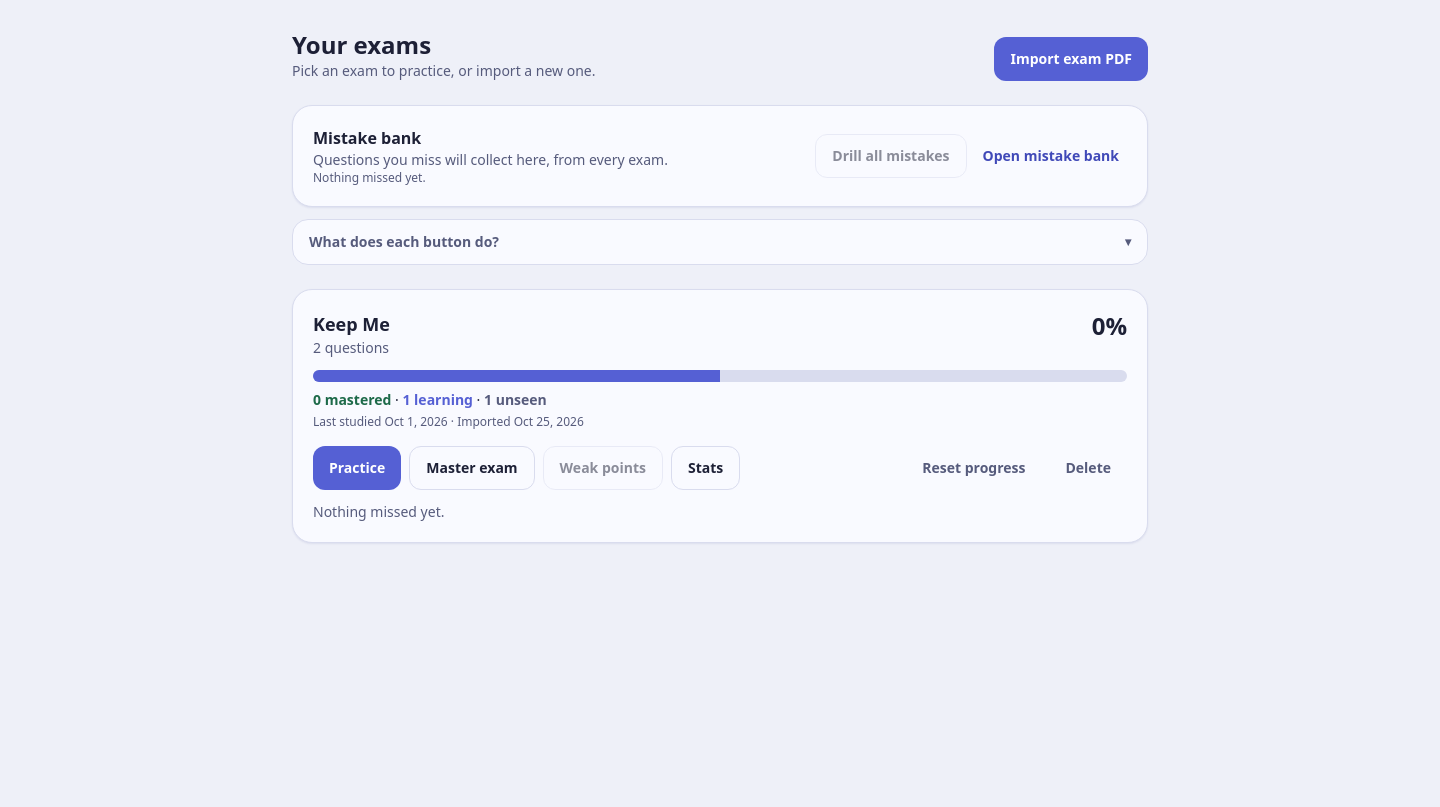
Test: LibraryScreen › resets progress after confirmation but keeps the exam
Click the button with aria-label "Reset progress for Keep Me" at (974, 468), box [906,446,1042,490]
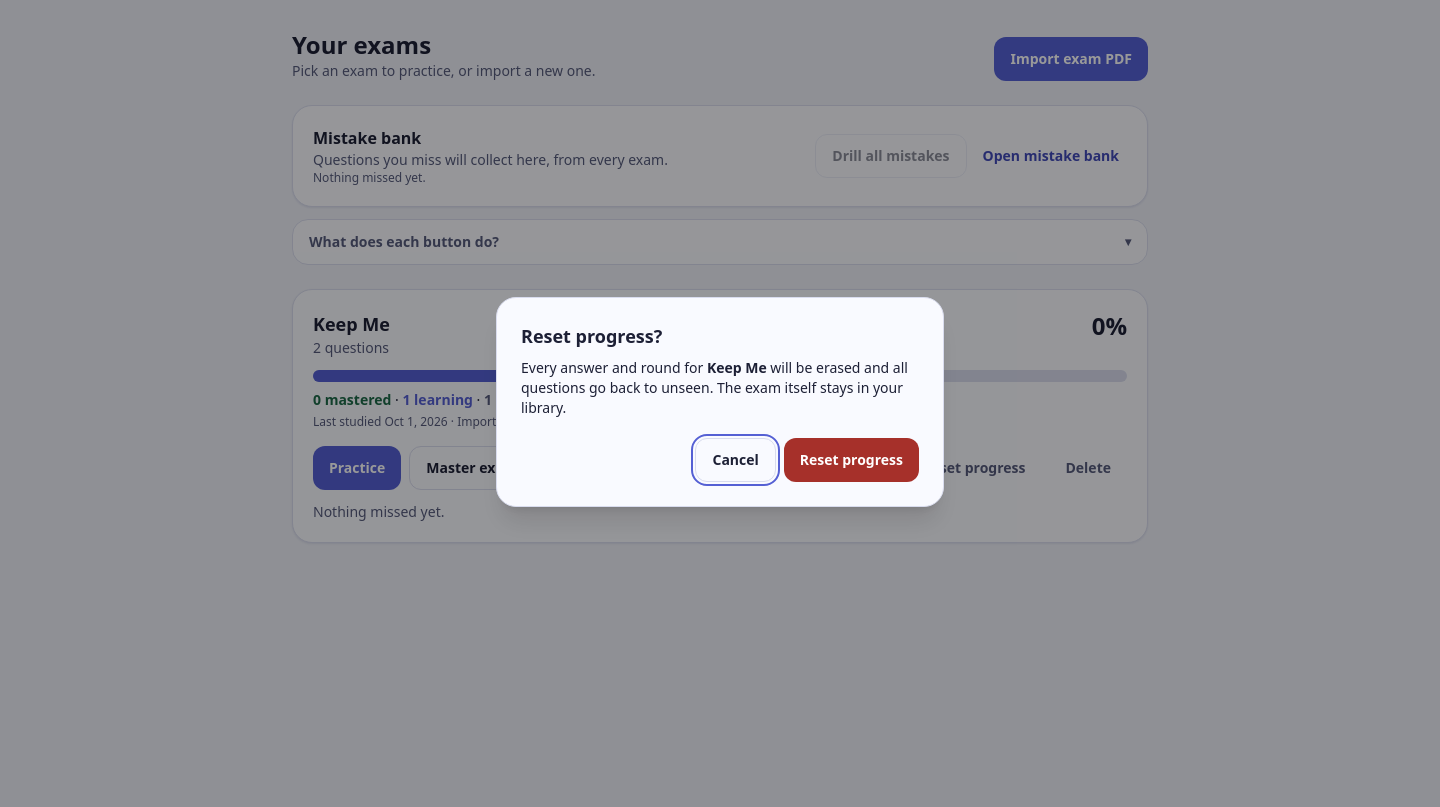
Result: the text "go back to unseen" is shown at [521,358,908,417]
Click the button "Reset progress" at (851, 460), box [784,438,919,482]
(page scrolled)
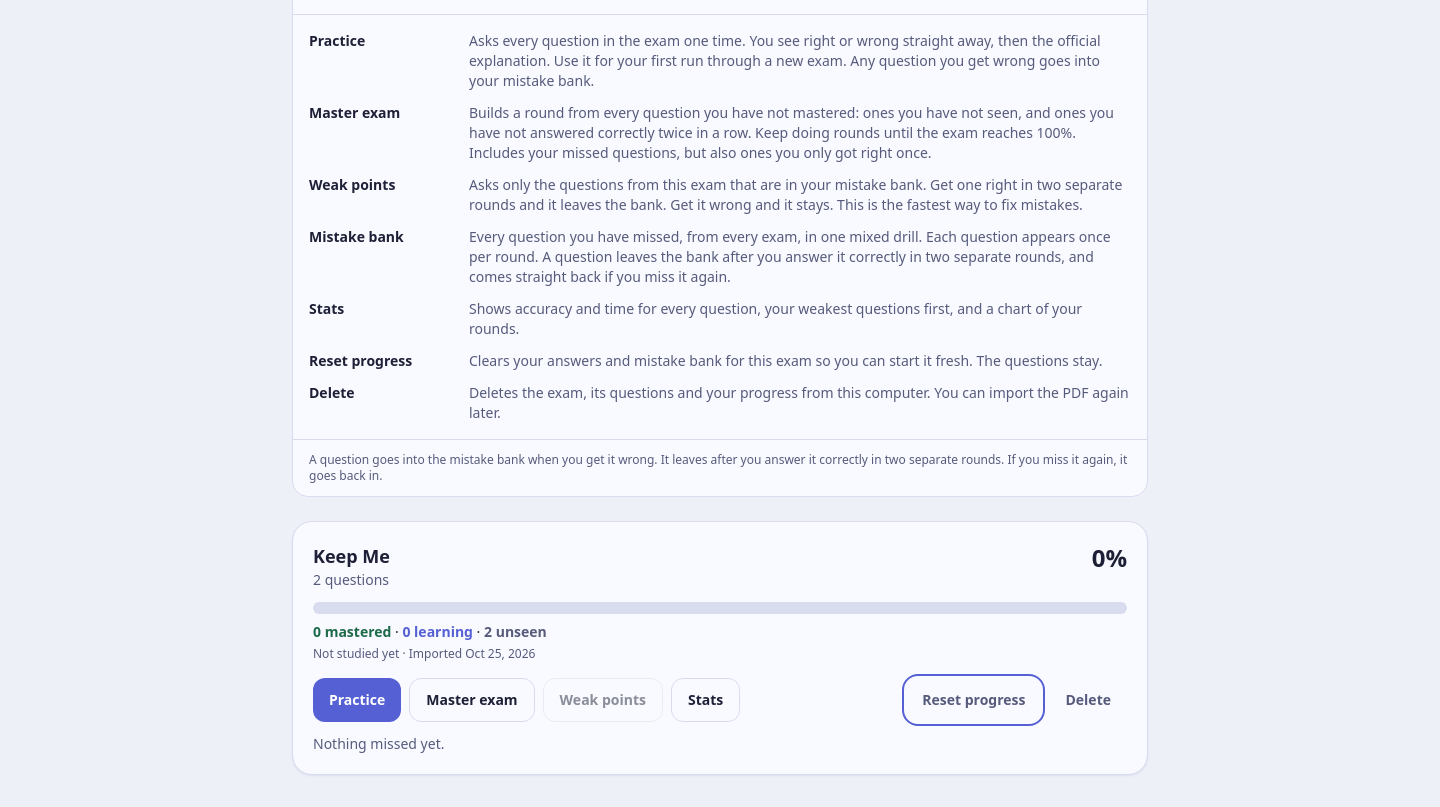
Result: the text "2 unseen" is shown at [484,622,547,641]
Result: the text "Not studied yet · Imported Oct 25, 2026" is shown at [313,645,535,662]
